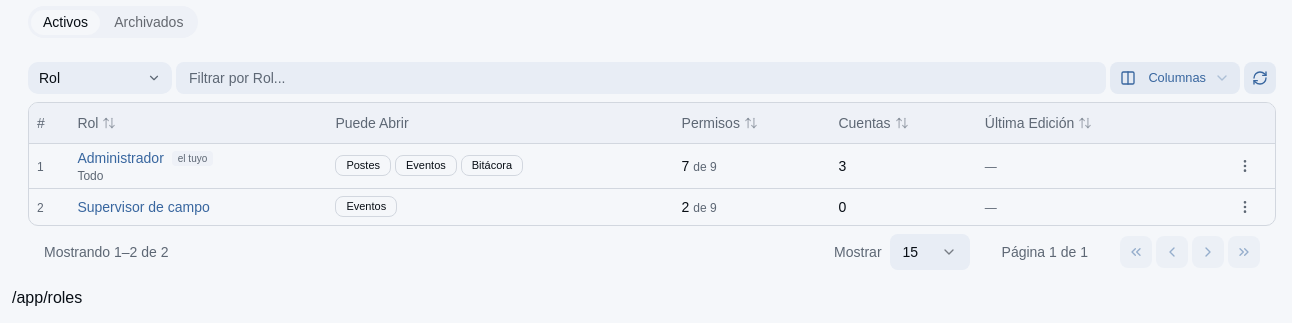
somebody who may only look › is offered nothing that writes
Check: the button "Supervisor de campo" is shown, box top-left (77, 196), bottom-right (210, 216)
Click the button named "Acciones de Supervisor de campo" at (1245, 206), box top-left (1231, 192), bottom-right (1259, 220)
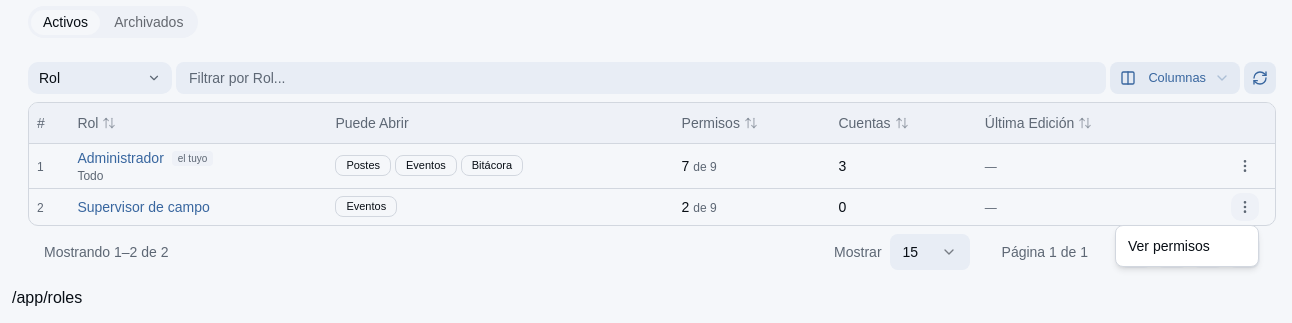
Check: the menu item "Ver permisos" is shown, box top-left (1128, 238), bottom-right (1210, 254)
